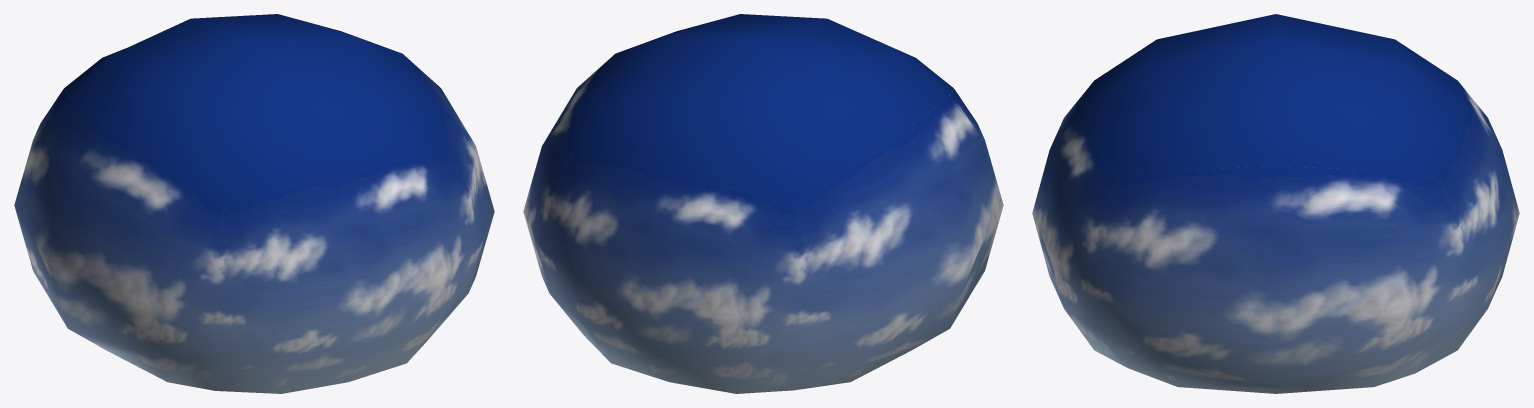
The model's file is MIRKWOOD_TREECANOPY500.fbx.
3 views of the same model, side by side, from view 1: azimuth 30°, elevation 25°; view 2: azimuth 150°, elevation 25°; view 3: azimuth 270°, elevation 25° (orthographic).
Parts seen in each view (by area): view 1: MIRKWOOD_TREECANOPY500; view 2: MIRKWOOD_TREECANOPY500; view 3: MIRKWOOD_TREECANOPY500.
Boxes of the visible parts, x1,y1,x2,y2 form: MIRKWOOD_TREECANOPY500: (14,14,494,393); MIRKWOOD_TREECANOPY500: (523,14,1003,393); MIRKWOOD_TREECANOPY500: (1032,14,1519,393).
Bounding box in the file's own units: 3379758 × 2131945 × 3379758.
2 materials, 2 textured.
